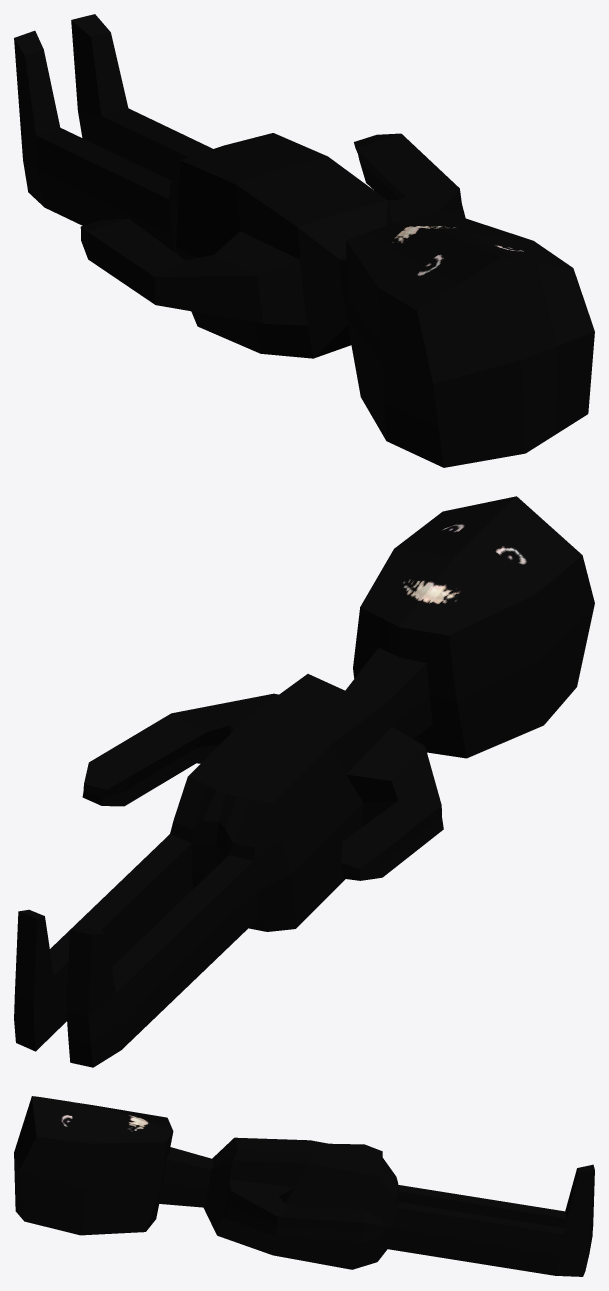
Rendered from Scary Person.glb.
3 renders of one model, top to bottom at view 1: azimuth 30°, elevation 25°; view 2: azimuth 150°, elevation 25°; view 3: azimuth 270°, elevation 25°, orthographic. The views are drawn at different scales.
Visible parts, largest first — view 1: Head; view 2: Head; view 3: Head.
Part boxes in pixels (x1,y1,x2,y2): Head: (14,14,594,467); Head: (14,496,594,1067); Head: (14,1096,594,1276).
Bounding box in the file's own units: 2.93 × 2.4 × 7.79.
1 material, 1 textured.
